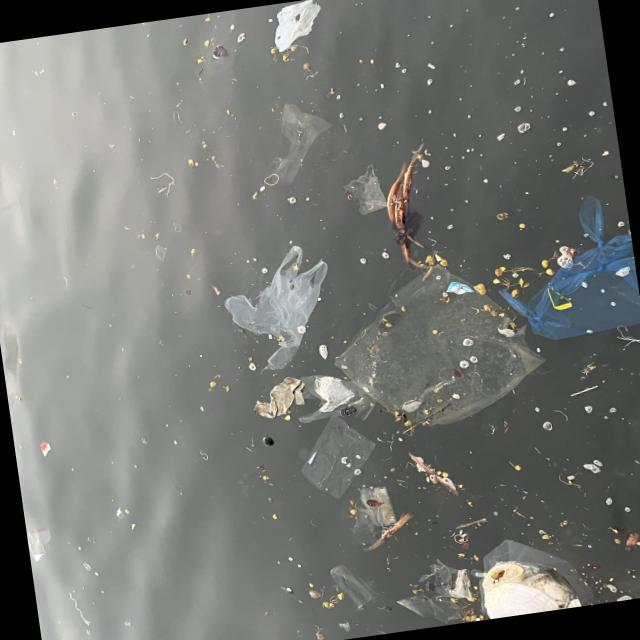foam: (484, 578, 560, 621)
plastic bag: (327, 267, 540, 428), (497, 197, 640, 341), (221, 244, 327, 374), (281, 372, 377, 429)
